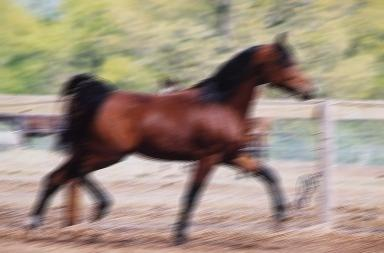horse: (25, 31, 316, 245)
